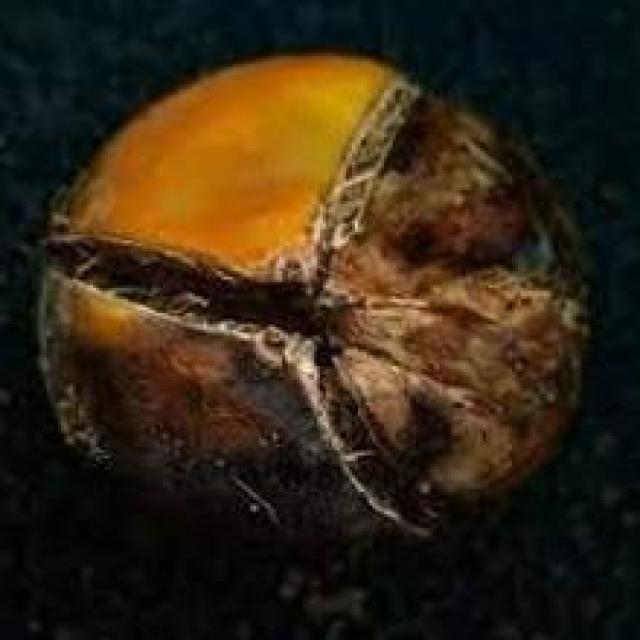damaged: (38, 53, 599, 542)
